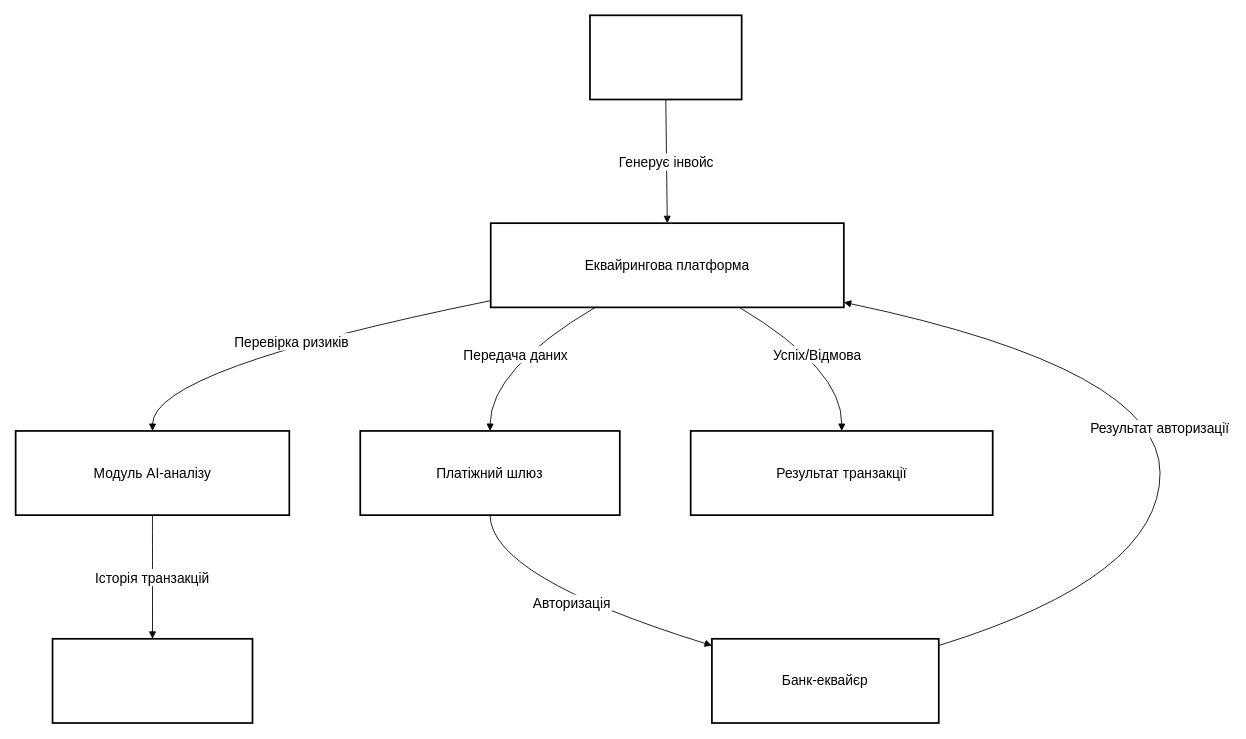
The diagram is 1246 pixels wide and 739 high, and some of its shapes have lost their labels. The box of each missing label's shape, as (x1, y1, x2, y2) in pixels:
База даних: (51, 638, 253, 723)
Клієнт: (589, 14, 742, 100)
